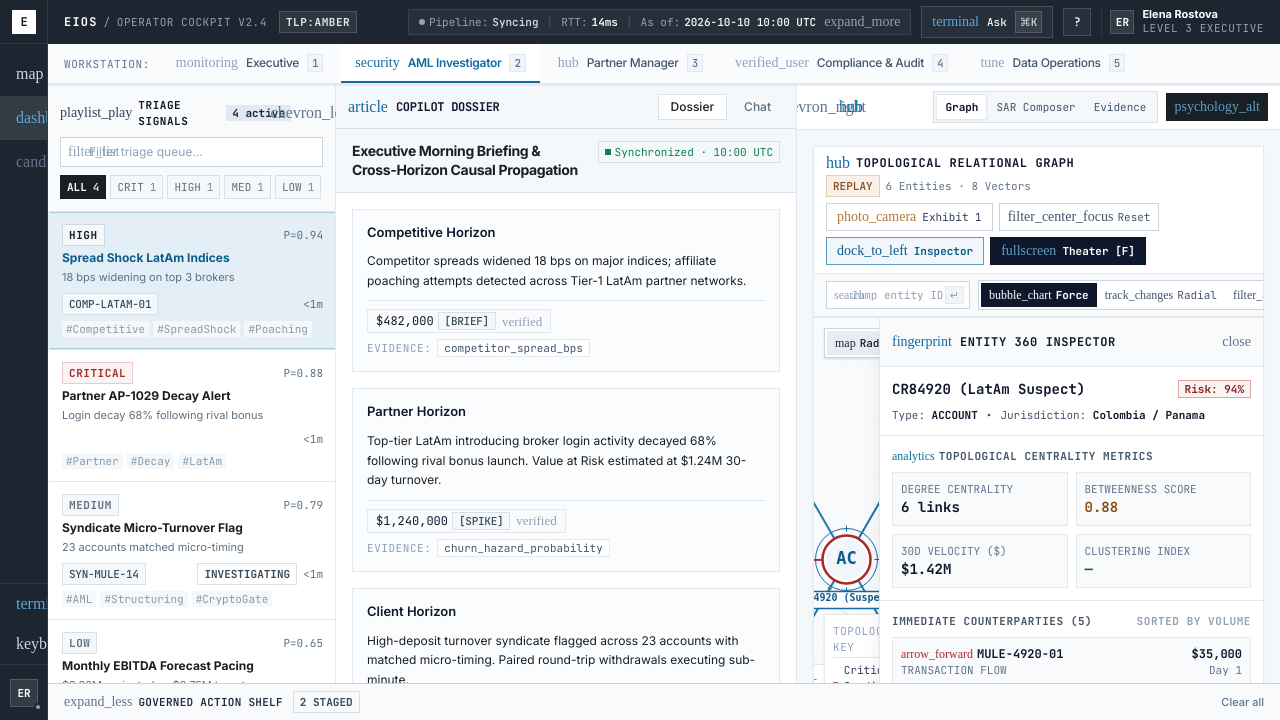
Scenario: Pane collapse controls live inside their pane headers › triage collapse is inside the triage rail header; canvas collapse inside the canvas bar
Check: the element named "Collapse Left Rail" is shown, box [48,85,336,683]
Check: the element named "Collapse Right Canvas" is shown, box [797,85,1279,130]
Click the button named "Collapse Left Rail" at (311, 113), box [299,101,323,125]
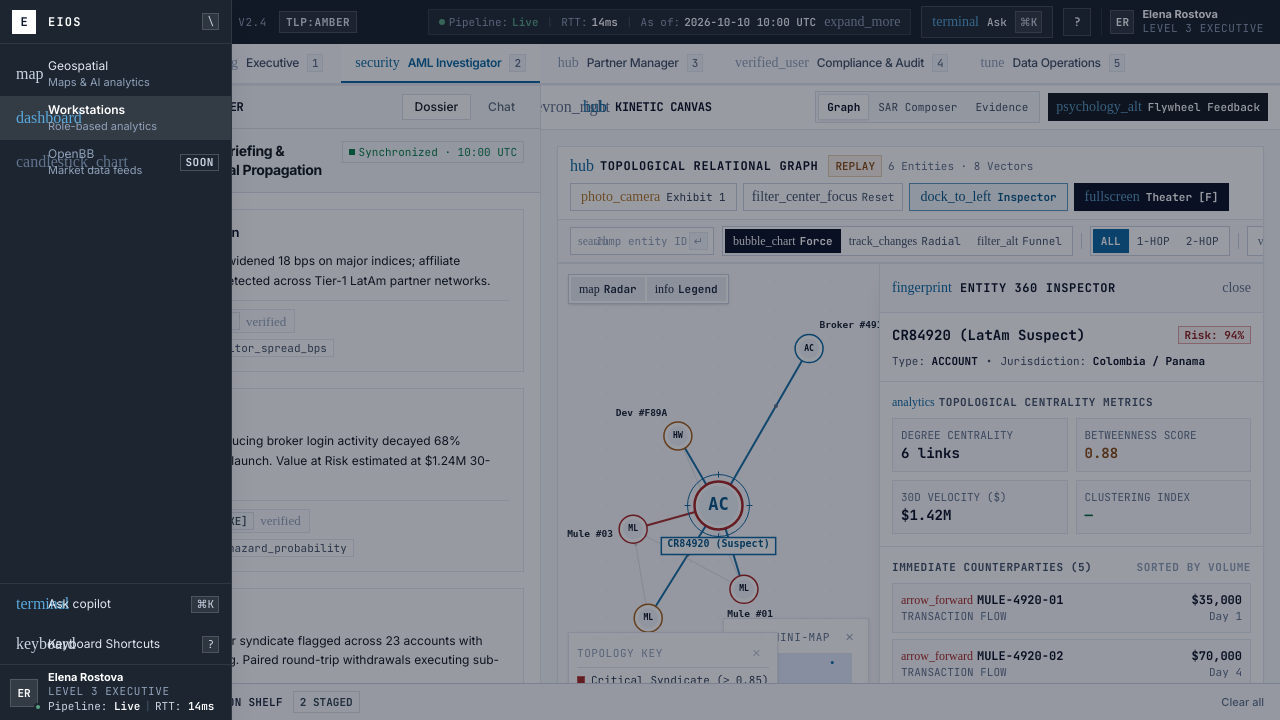
Check: the button named "Expand Left Rail" is shown, box [52,97,76,121]
